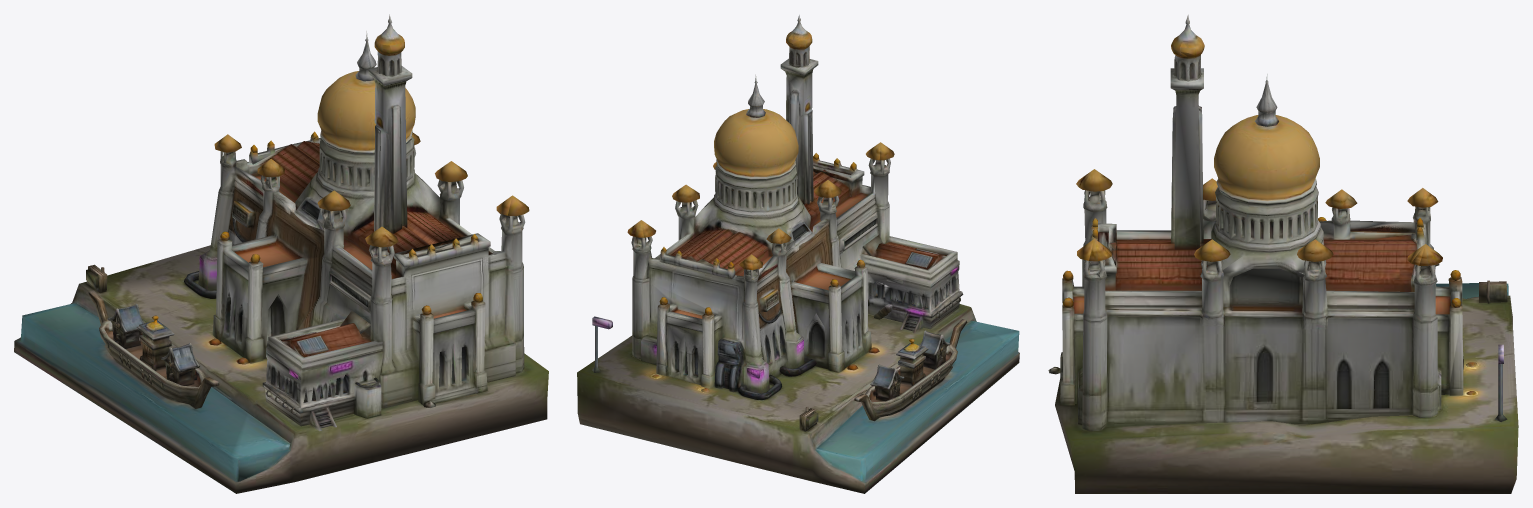
File: lm_omar_ali.glb
The picture shows the model from 3 angles, left to right: view 1: azimuth 30°, elevation 25°; view 2: azimuth 150°, elevation 25°; view 3: azimuth 270°, elevation 25°; orthographic projection. The views are drawn at different scales.
Parts seen in each view (by area): view 1: Body, Trim; view 2: Body, Trim; view 3: Body, Trim.
Part boxes in pixels (box(x1,y1,x2,y2)): Body: box(14, 14, 548, 493); Trim: box(147, 36, 527, 330); Body: box(577, 14, 1019, 493); Trim: box(641, 33, 919, 391); Body: box(1048, 14, 1518, 493); Trim: box(1063, 37, 1477, 394).
Bounding box in the file's own units: 40 × 45.35 × 45.52.
Materials: 2 (2 with a texture image).
